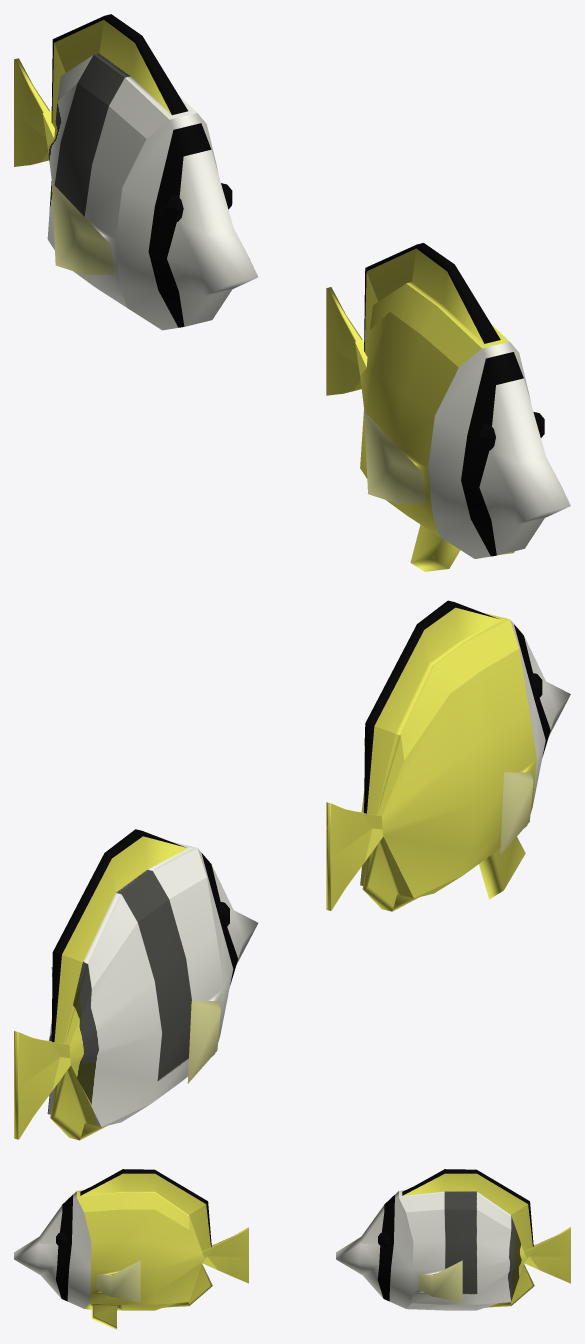
The model's file is Fish.fbx.
3 views of the same model, one above another, from view 1: azimuth 30°, elevation 25°; view 2: azimuth 150°, elevation 25°; view 3: azimuth 270°, elevation 25° (orthographic). The views are drawn at different scales.
Visible parts, largest first — view 1: Fish_A, Fish_B; view 2: Fish_A, Fish_B; view 3: Fish_A, Fish_B.
Boxes of the visible parts, <box> form: Fish_A: <box>326,243,570,571</box>; Fish_B: <box>14,14,258,330</box>; Fish_A: <box>326,600,570,911</box>; Fish_B: <box>14,829,258,1140</box>; Fish_A: <box>14,1169,248,1329</box>; Fish_B: <box>336,1169,570,1310</box>.
Size of the model in its own units: 73.51 by 148 by 492.
